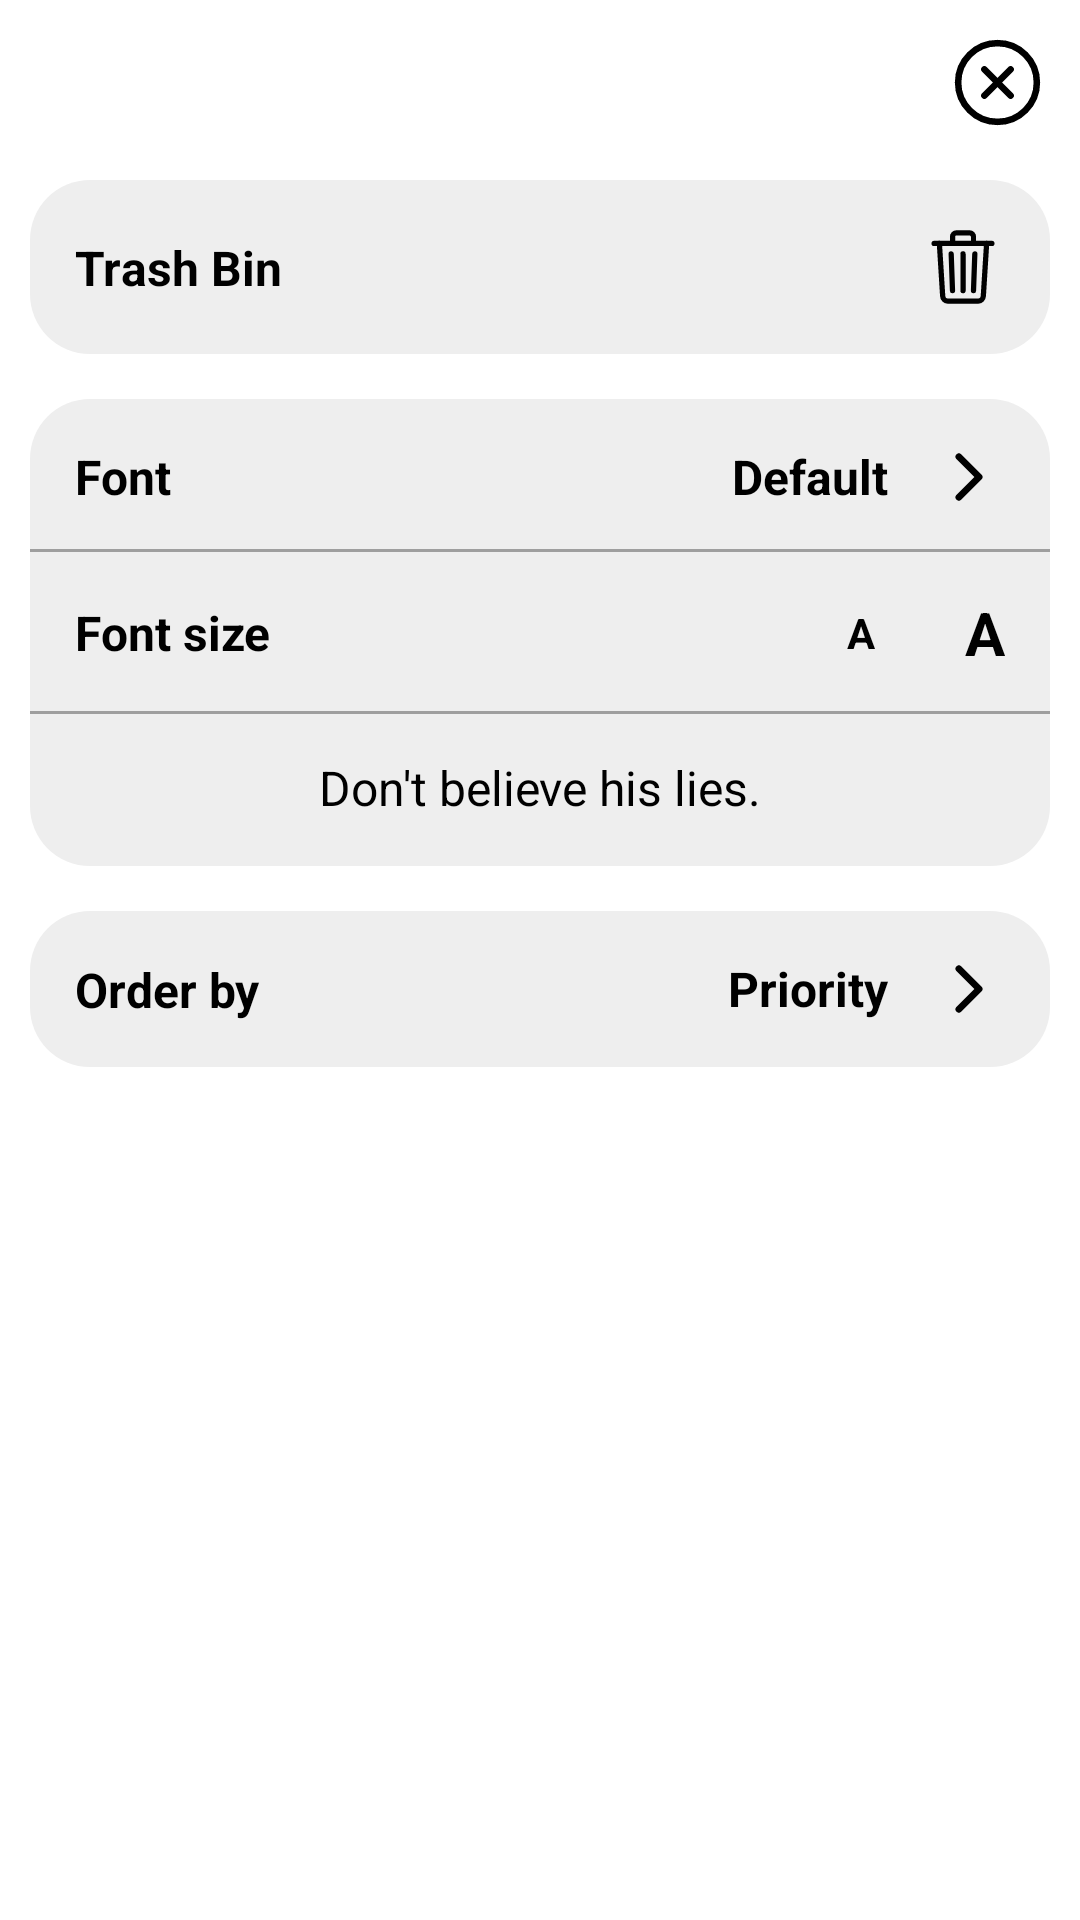

Screen size 1080w x 1920h. Icon name, then its center in pixels as (x=x, y=y):
Cancel: (x=997, y=82)
next: (x=969, y=477), (x=969, y=989)
